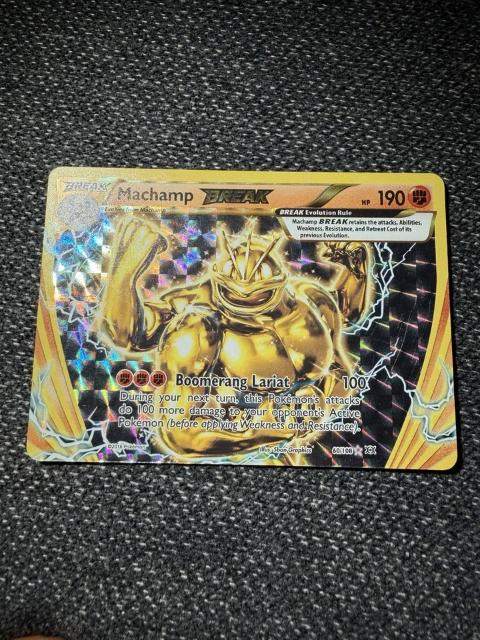Card: (22, 164, 462, 473)
Name: (113, 182, 277, 210)
